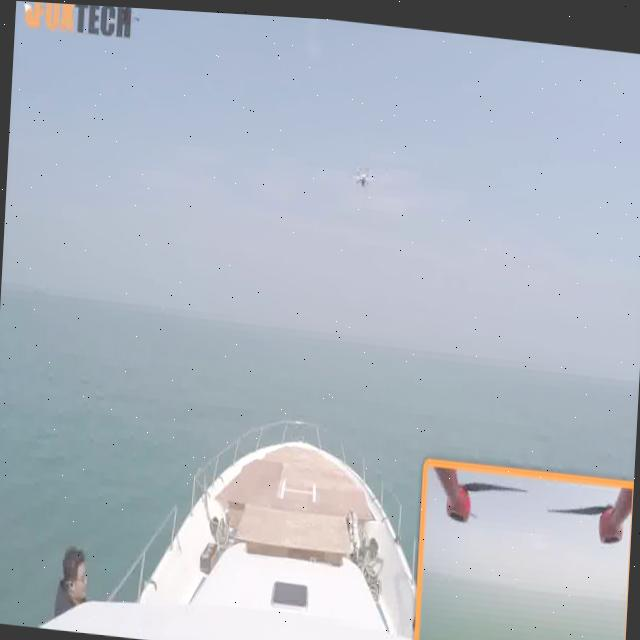drone: (346, 147, 382, 196)
